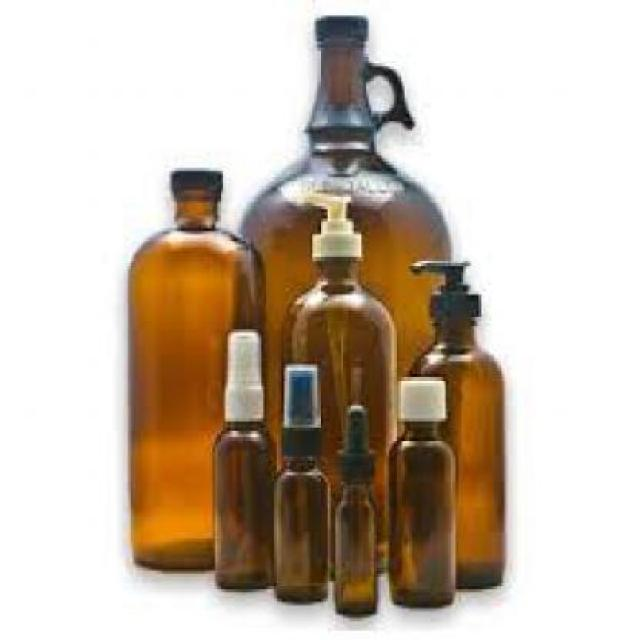kaca: (232, 39, 451, 508), (128, 191, 262, 574), (281, 257, 397, 574), (408, 320, 502, 592), (386, 422, 454, 604), (212, 419, 271, 586), (274, 457, 324, 598), (332, 478, 377, 614)
